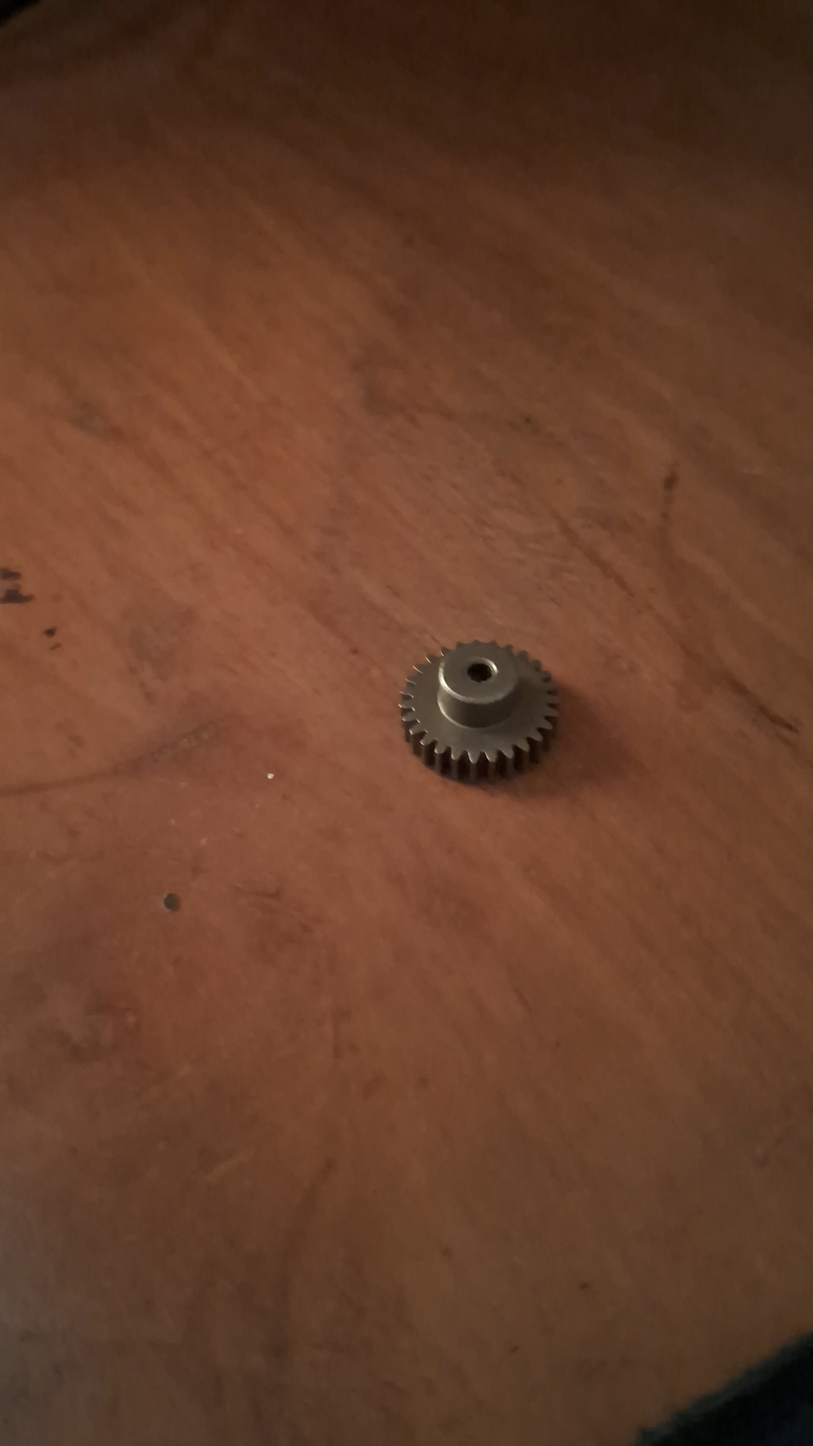spur gear: (400, 641, 557, 780)
